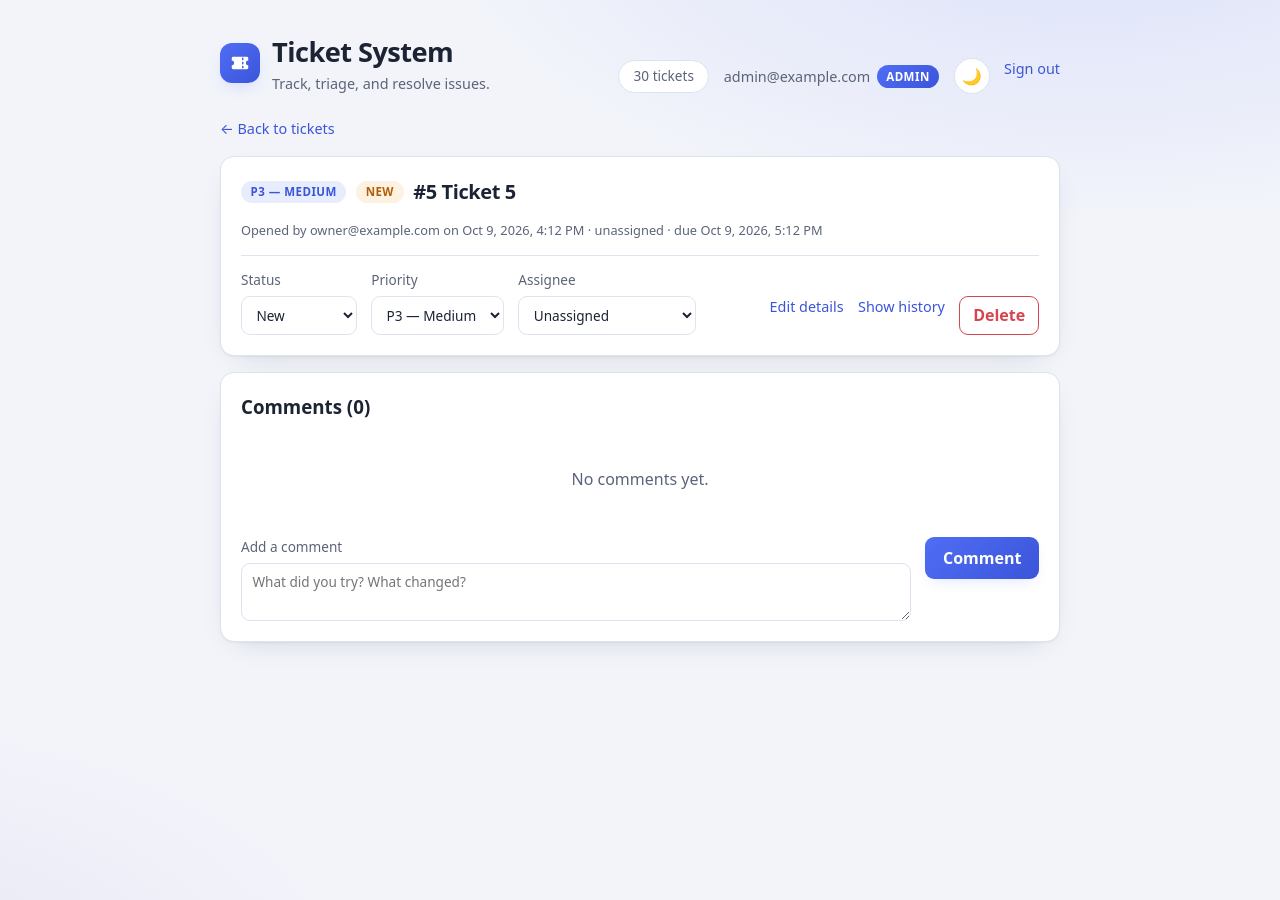
Test case: scope and navigation › restores an open ticket from the hash on load, and returns to the list
Check: the heading "#5 Ticket 5" is shown, box [413, 177, 516, 207]
Click the button "← Back to tickets": (277, 129) [220, 118, 335, 140]
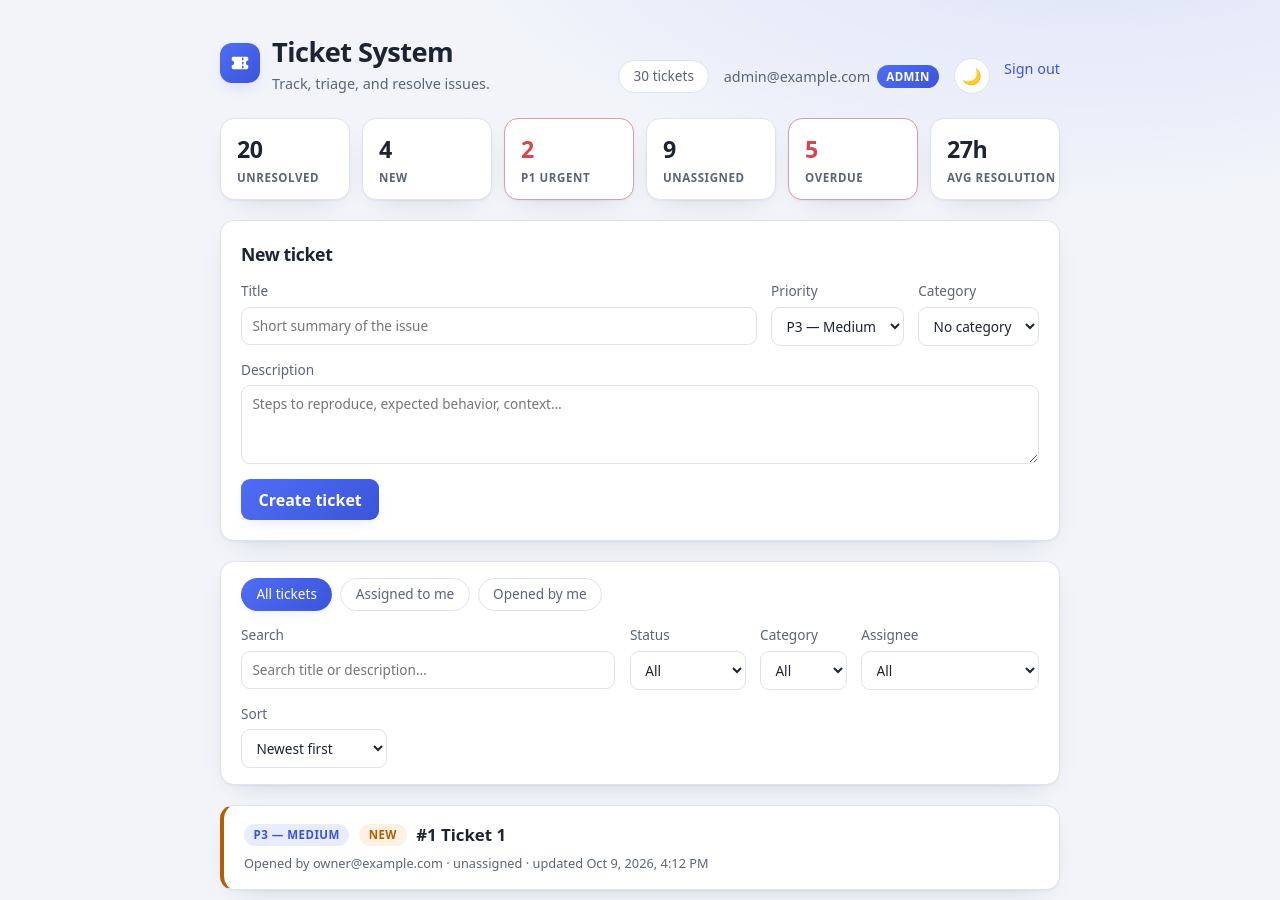
Check: the heading "#1 Ticket 1" is shown, box [416, 822, 506, 847]
